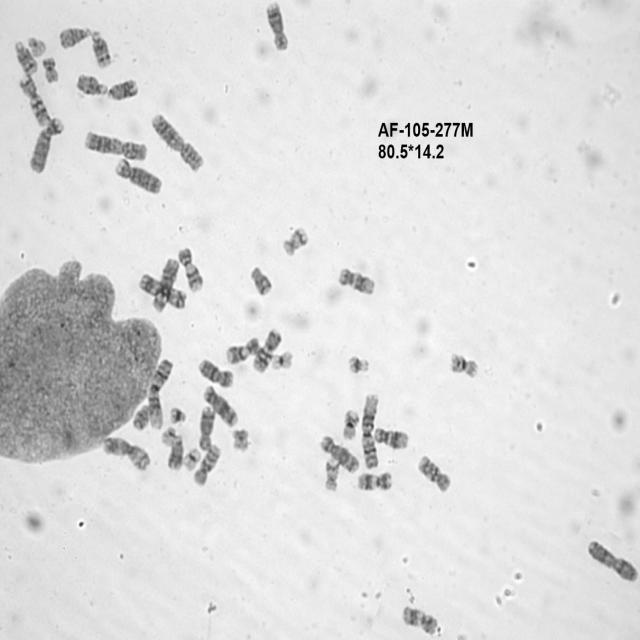A1: (146, 355, 174, 430), (359, 390, 381, 470)
A2: (149, 110, 206, 173), (82, 126, 149, 162)
A3: (136, 270, 188, 311), (100, 432, 152, 472)
B4: (26, 113, 65, 175), (113, 155, 163, 196)
B5: (317, 432, 361, 474), (200, 382, 240, 428)
C10: (415, 451, 453, 494), (191, 440, 222, 488)
C11: (399, 603, 440, 636), (354, 469, 394, 492)
C12: (336, 264, 376, 298), (372, 424, 410, 451)
C6: (136, 269, 188, 311), (149, 256, 180, 314)
C7: (16, 73, 51, 128), (251, 326, 282, 374)
C8: (263, 0, 290, 53), (196, 404, 216, 452)
C9: (176, 244, 205, 293), (224, 334, 262, 364)
D13: (105, 75, 139, 102), (165, 432, 184, 471)
D14: (88, 27, 113, 70), (12, 38, 39, 76)
D15: (57, 23, 92, 50), (73, 71, 109, 97)
E16: (446, 348, 481, 381), (340, 407, 360, 441)
E17: (280, 224, 310, 258), (322, 455, 340, 493)
E18: (247, 261, 274, 298), (132, 403, 152, 431)
F19: (269, 348, 294, 371), (181, 446, 202, 471)
F20: (230, 425, 250, 454), (41, 55, 61, 84)
G21: (346, 352, 370, 374), (168, 404, 188, 424)
G22: (26, 35, 48, 60), (159, 424, 177, 446)
X: (584, 535, 639, 585), (196, 356, 235, 388)
